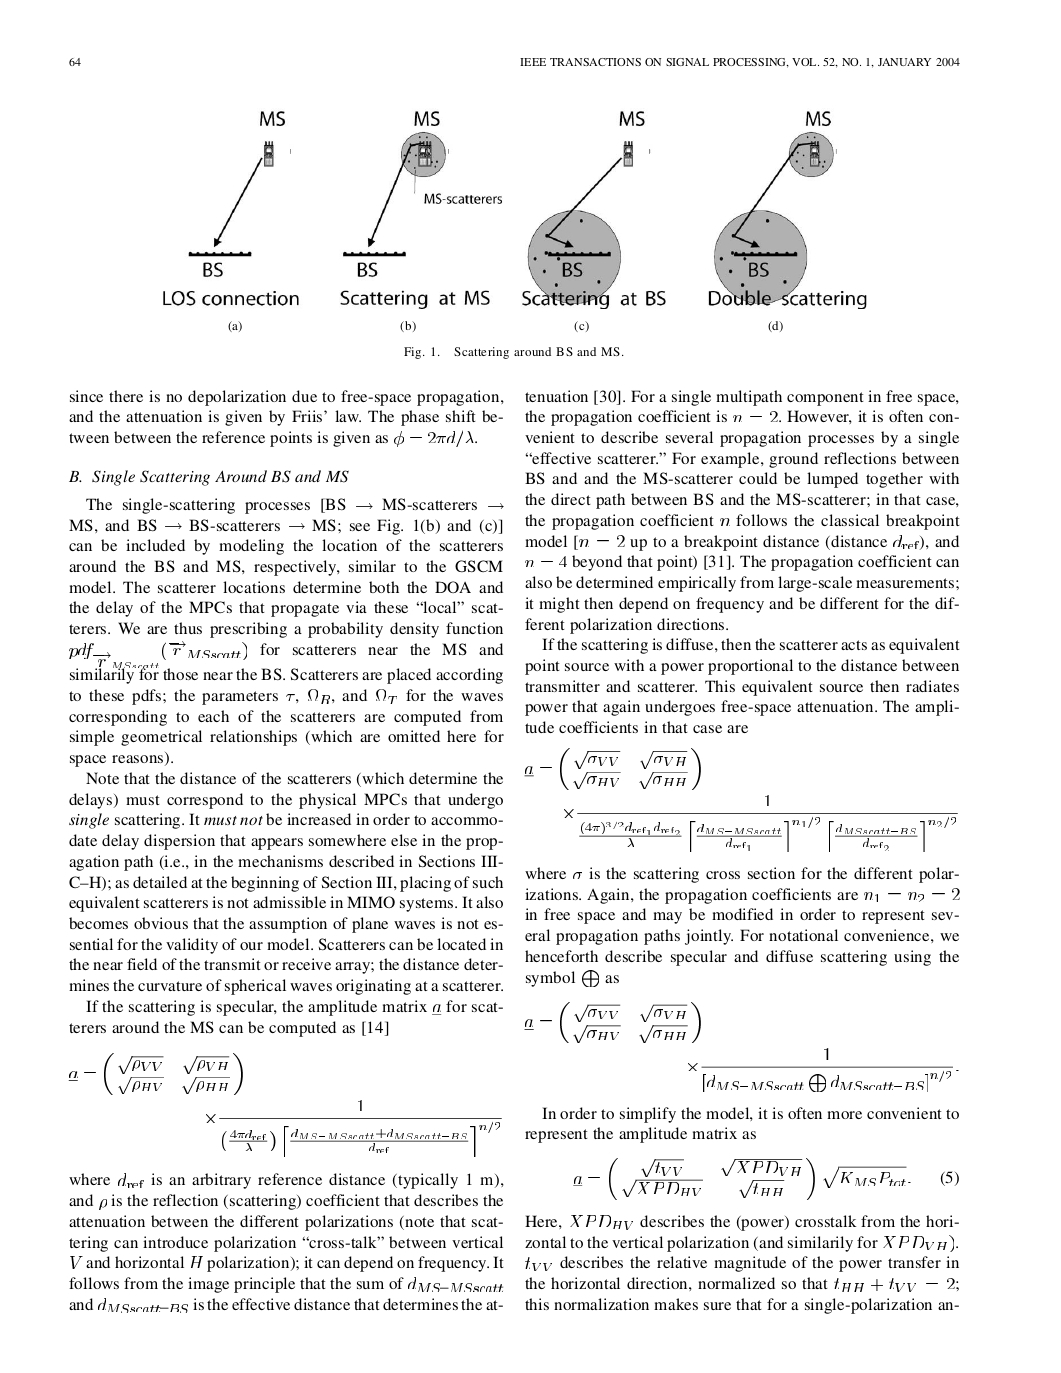figure: (340, 111, 502, 308), (708, 111, 866, 308), (522, 111, 665, 308), (163, 111, 298, 305)
formula: (564, 795, 957, 851), (573, 1157, 958, 1200), (206, 1100, 502, 1156), (688, 1048, 958, 1091), (524, 747, 700, 790), (68, 1052, 242, 1096), (524, 1001, 700, 1043)
